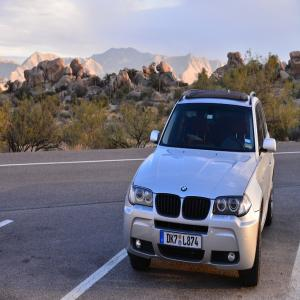Vehicle-registration-plate: (162, 228, 204, 250)
